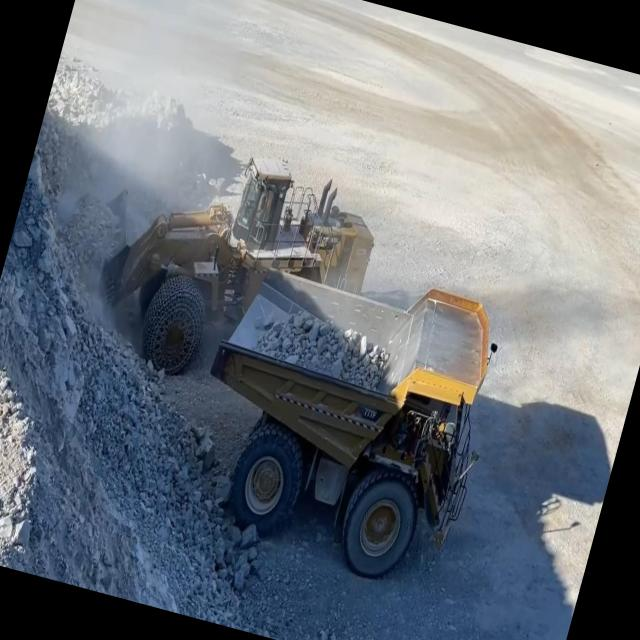Camion volquete: (168, 232, 520, 596)
pala cargadora: (68, 114, 396, 422)
